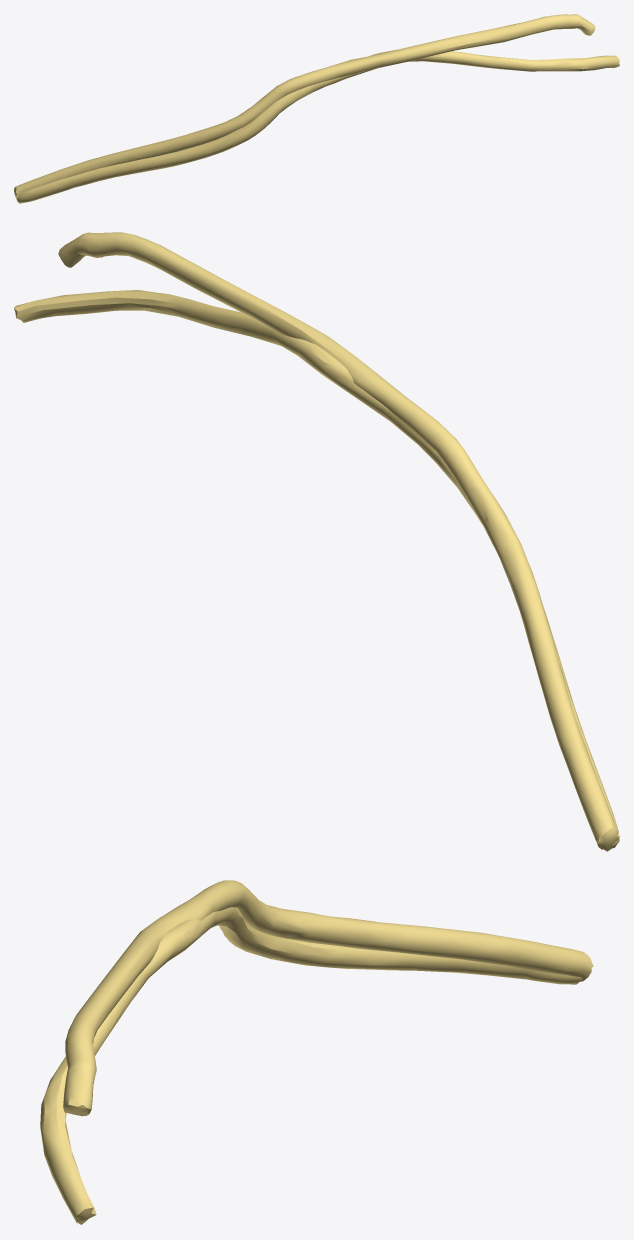
The model's file is fma53454_mm2620.glb.
3 views of the same model, one above another, from view 1: azimuth 30°, elevation 25°; view 2: azimuth 150°, elevation 25°; view 3: azimuth 270°, elevation 25° (orthographic). The views are drawn at different scales.
Parts seen in each view (by area): view 1: FMA53454_MM2620; view 2: FMA53454_MM2620; view 3: FMA53454_MM2620.
Part boxes in pixels (x1,y1,x2,y2): FMA53454_MM2620: (14, 14, 619, 203); FMA53454_MM2620: (14, 232, 619, 851); FMA53454_MM2620: (40, 880, 593, 1224).
Bounding box in the file's own units: 0.0299 × 0.0105 × 0.0149.
